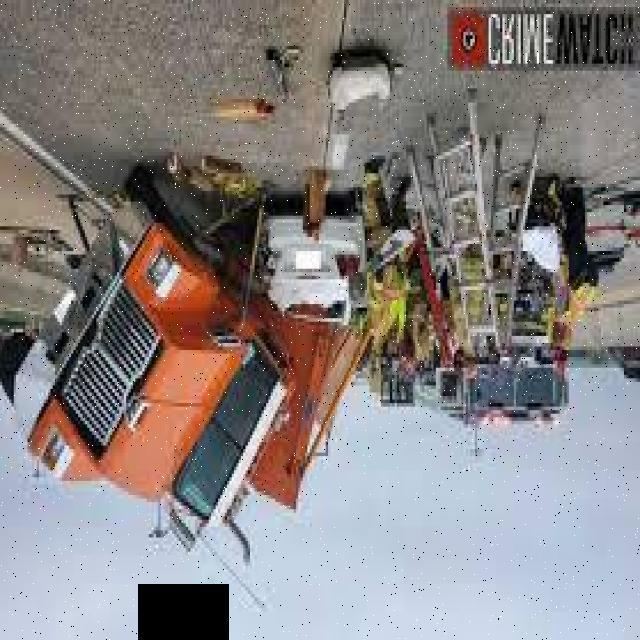severe: (2, 142, 374, 562)
